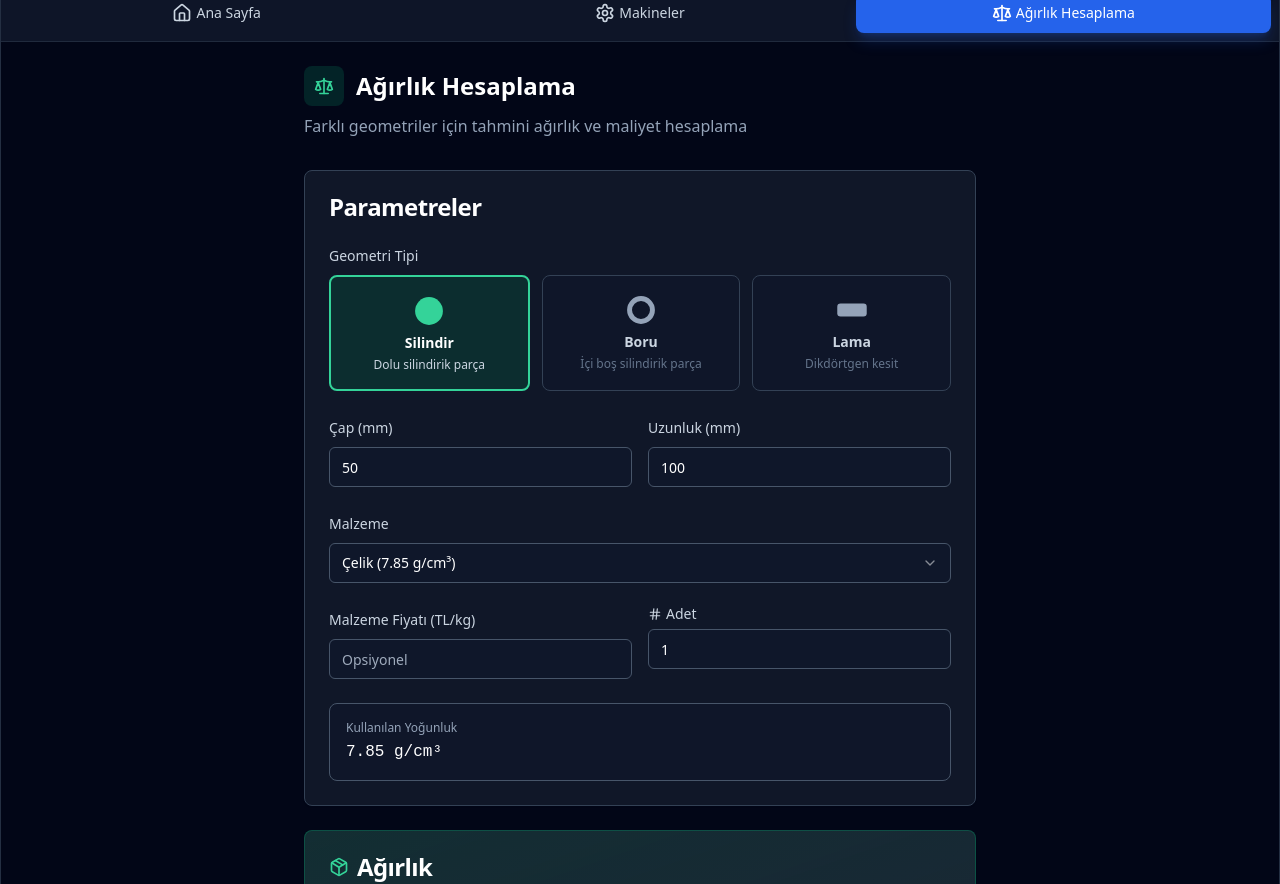
Test: weight calculator: live calculation matches the numerical parity fixtures › computes material cost when a price per kg is given
In the number field labelled "Malzeme Fiyatı (TL/kg)": [480, 659] box x1=329 y1=639 x2=632 y2=679, type "100"
(page scrolled)
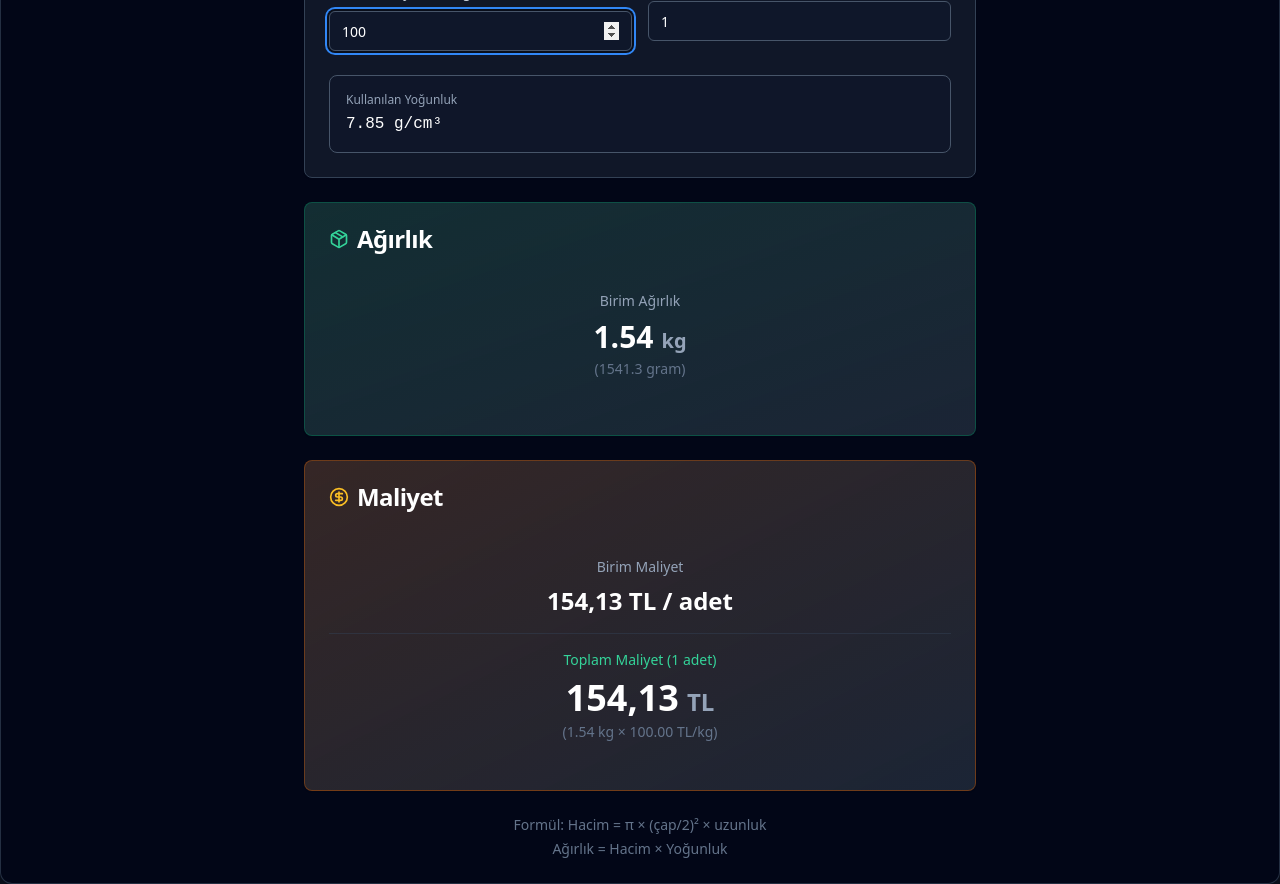
Check: the text "154,13 TL / adet" is shown, box x1=547 y1=584 x2=733 y2=617
